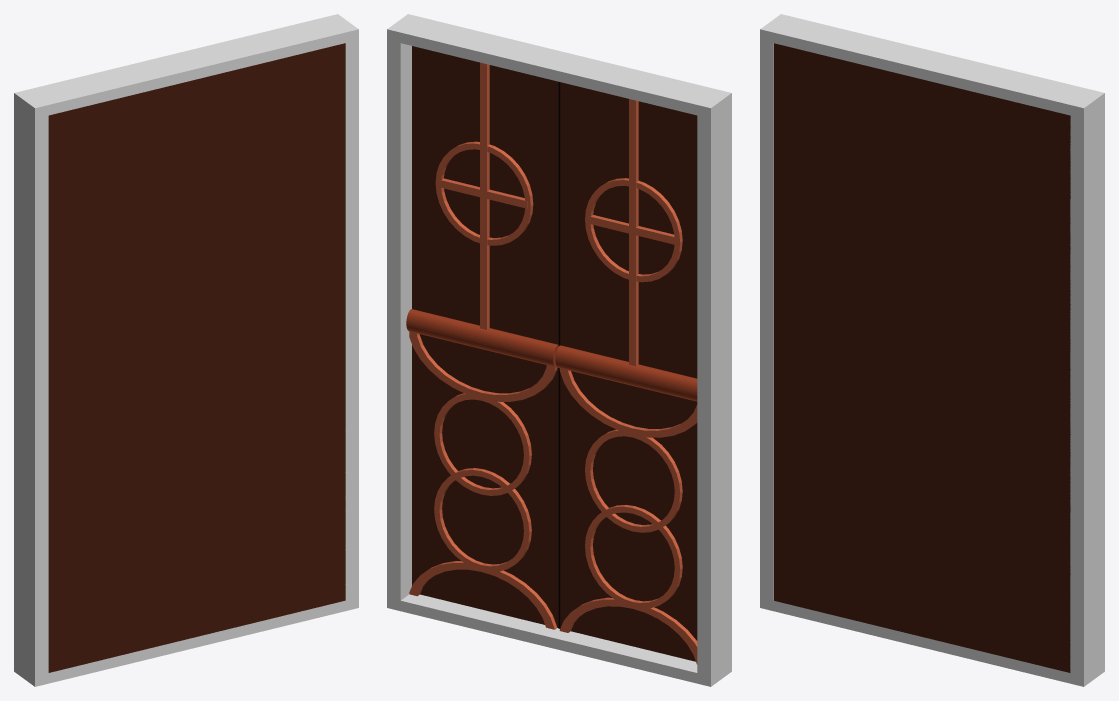
File: fist_floor_side_face_door.glb
3 renders of one model, left to right at view 1: azimuth 30°, elevation 25°; view 2: azimuth 150°, elevation 25°; view 3: azimuth 330°, elevation 25°, orthographic.
Visible parts, largest first — view 1: Cylinder.004; view 2: Cylinder.004; view 3: Cylinder.004.
Boxes of the visible parts, x1,y1,x2,y2 form: Cylinder.004: (14,14,358,686); Cylinder.004: (387,14,731,686); Cylinder.004: (760,14,1104,686).
Bounding box in the file's own units: 3.17 × 5.42 × 0.3546.
